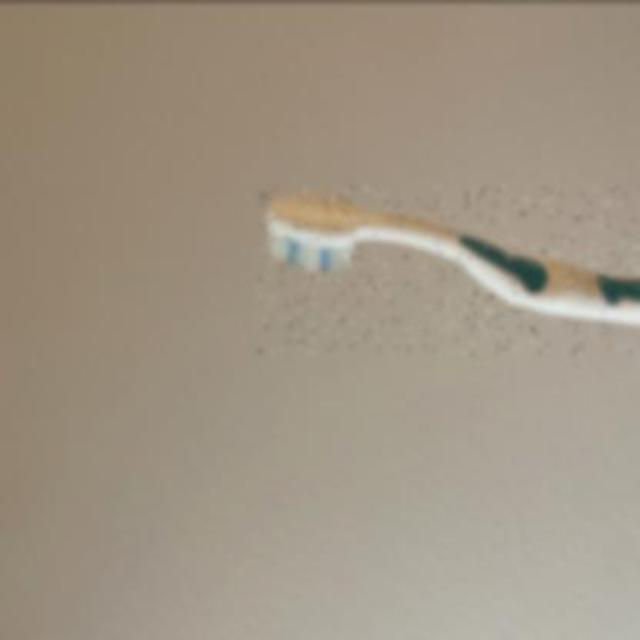toothbrush: (256, 184, 640, 353)
